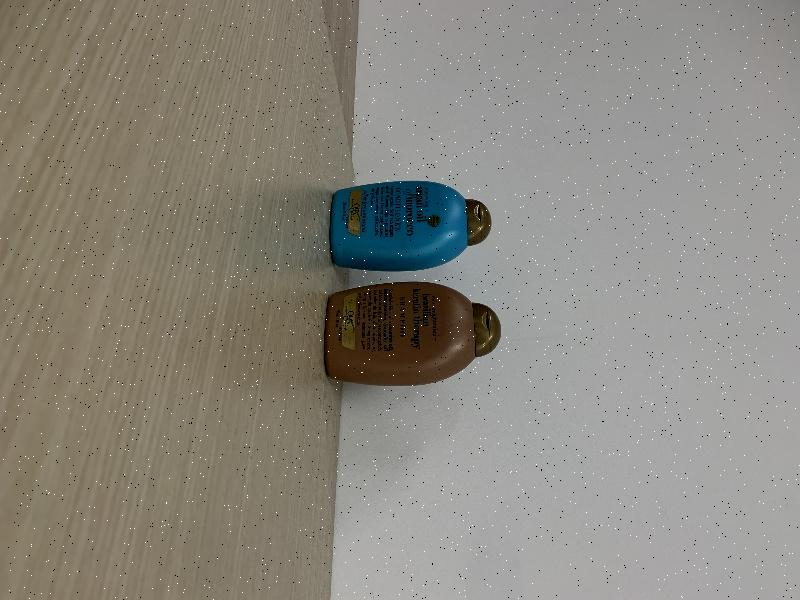ArganOilOfMorocco_Conditioner: (330, 179, 492, 271)
BrazilianKeratinTherapy_Shampoo: (324, 283, 502, 386)
